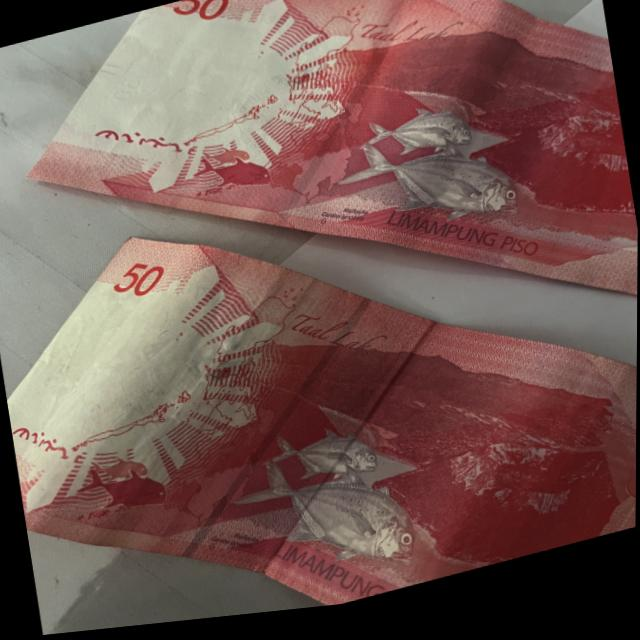50_maliputo: (224, 403, 424, 607), (329, 84, 527, 264)
50_maliputo_watermark: (68, 436, 177, 537), (184, 131, 278, 211)
